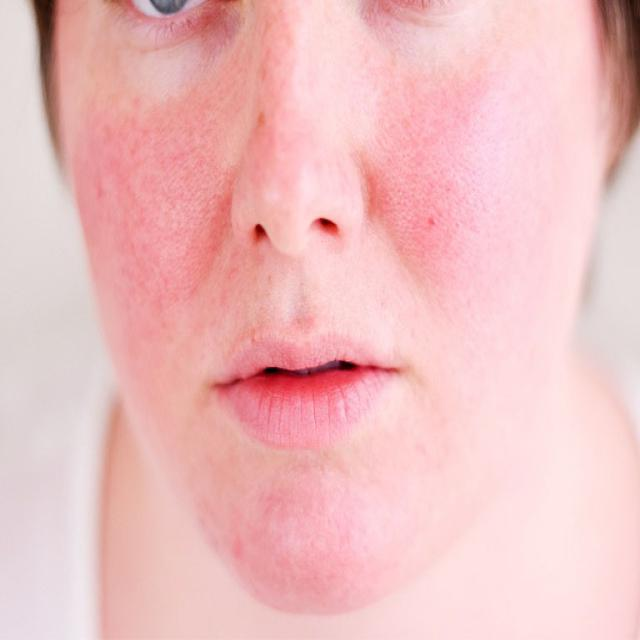Skin-Redness: (78, 82, 260, 304), (370, 43, 516, 289)
